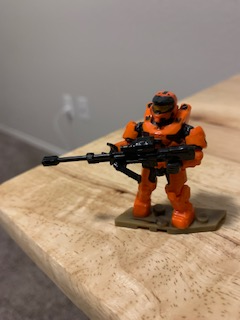spartan: (103, 90, 209, 228)
